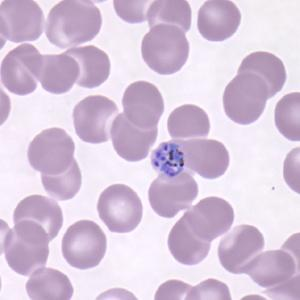Infected: (147, 138, 189, 180)
Uninfected: (45, 0, 101, 49), (5, 220, 51, 279), (12, 192, 63, 244), (19, 50, 81, 92), (221, 72, 269, 126), (26, 127, 78, 176), (139, 26, 191, 75), (112, 107, 156, 163), (73, 93, 120, 145), (147, 172, 200, 218), (166, 213, 213, 264), (238, 50, 286, 99), (61, 219, 106, 270), (184, 196, 236, 240), (218, 223, 262, 275), (98, 183, 142, 234), (0, 43, 40, 96), (122, 79, 163, 130), (61, 45, 112, 86), (38, 156, 83, 201), (248, 246, 295, 289), (1, 2, 43, 45), (197, 0, 241, 41), (144, 0, 192, 36), (187, 138, 227, 181), (167, 104, 209, 141), (25, 268, 72, 300)
